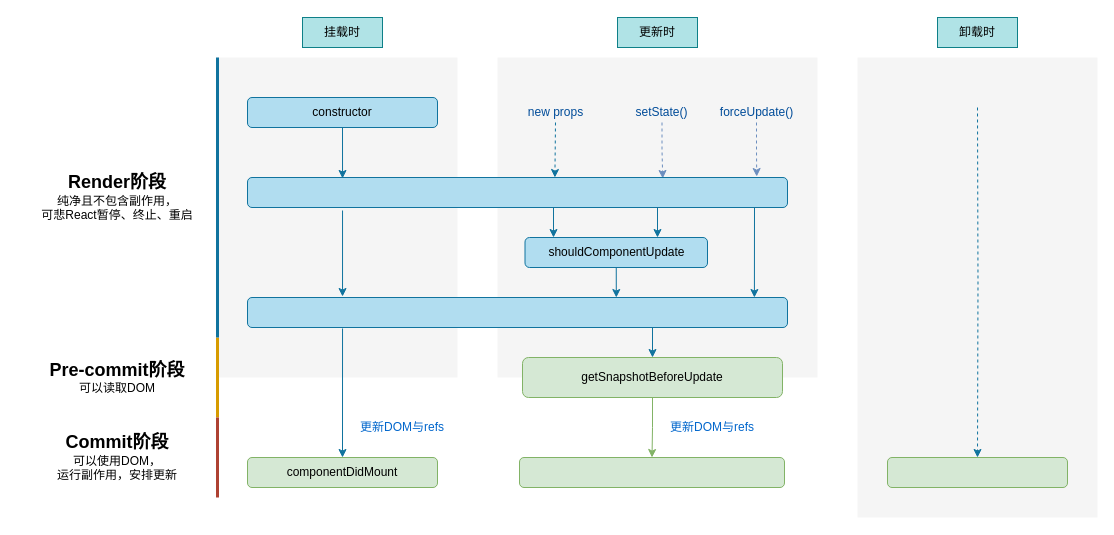
The diagram is 1114 pixels wide and 535 high, and some of its shapes have lost their labels. Here are the shapes that lost their labels. From the top down, the centre of each, then its label:
point 517,192: static getDerivedStateFromProps
point 517,312: render
point 651,472: componentDidUpdate
point 977,472: componentWillUnMount
